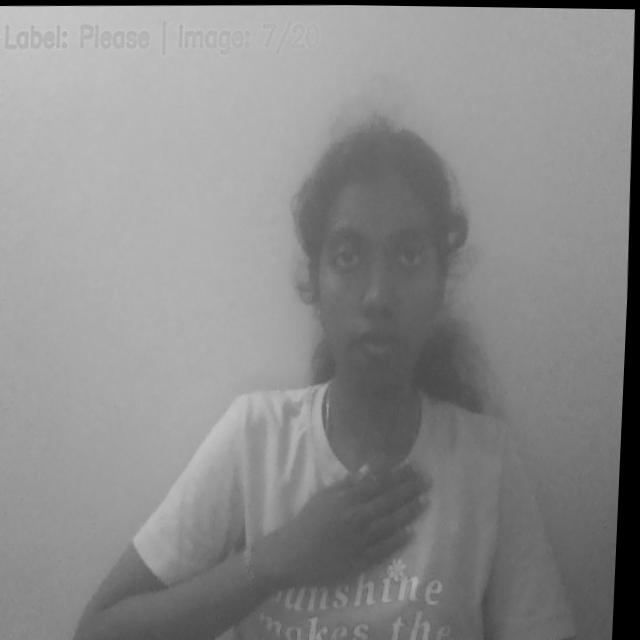Please: (268, 452, 445, 625)
